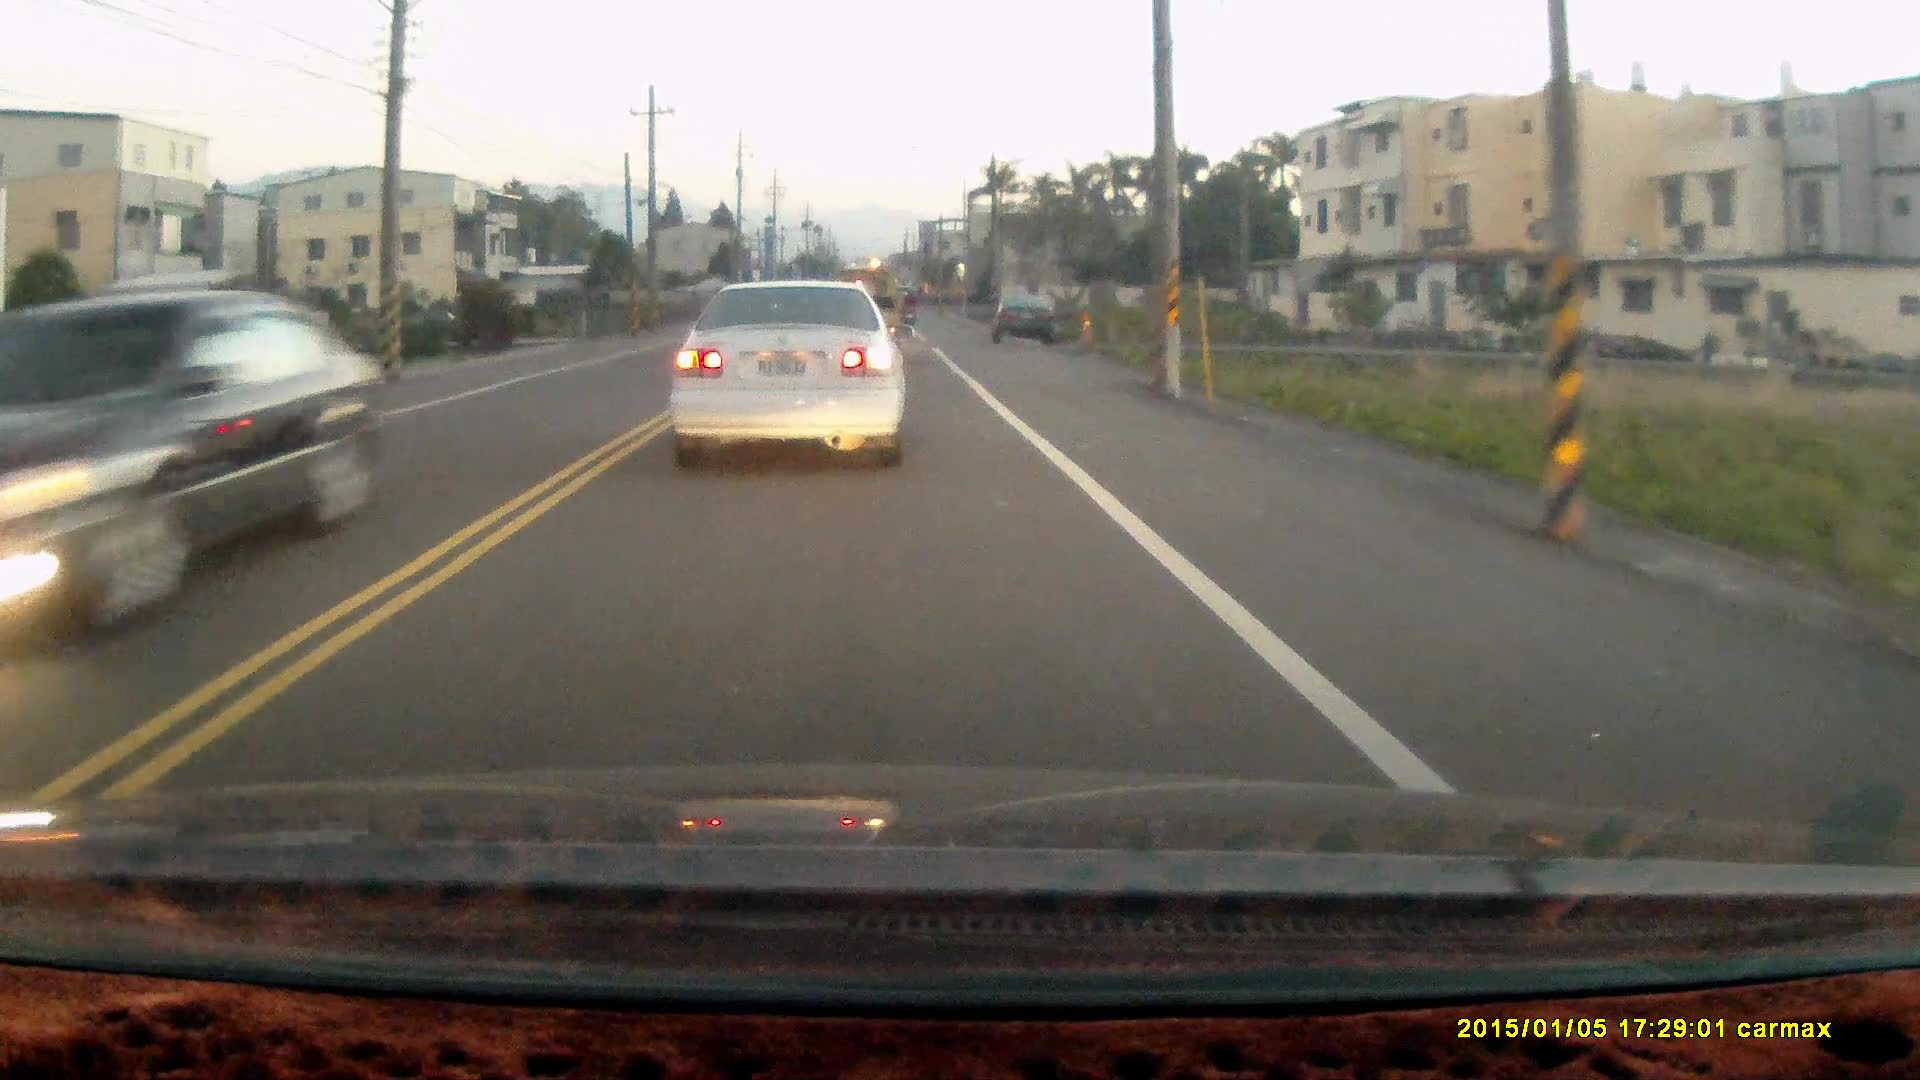vehicle: (7, 291, 392, 649), (667, 281, 909, 473), (997, 294, 1067, 352)
